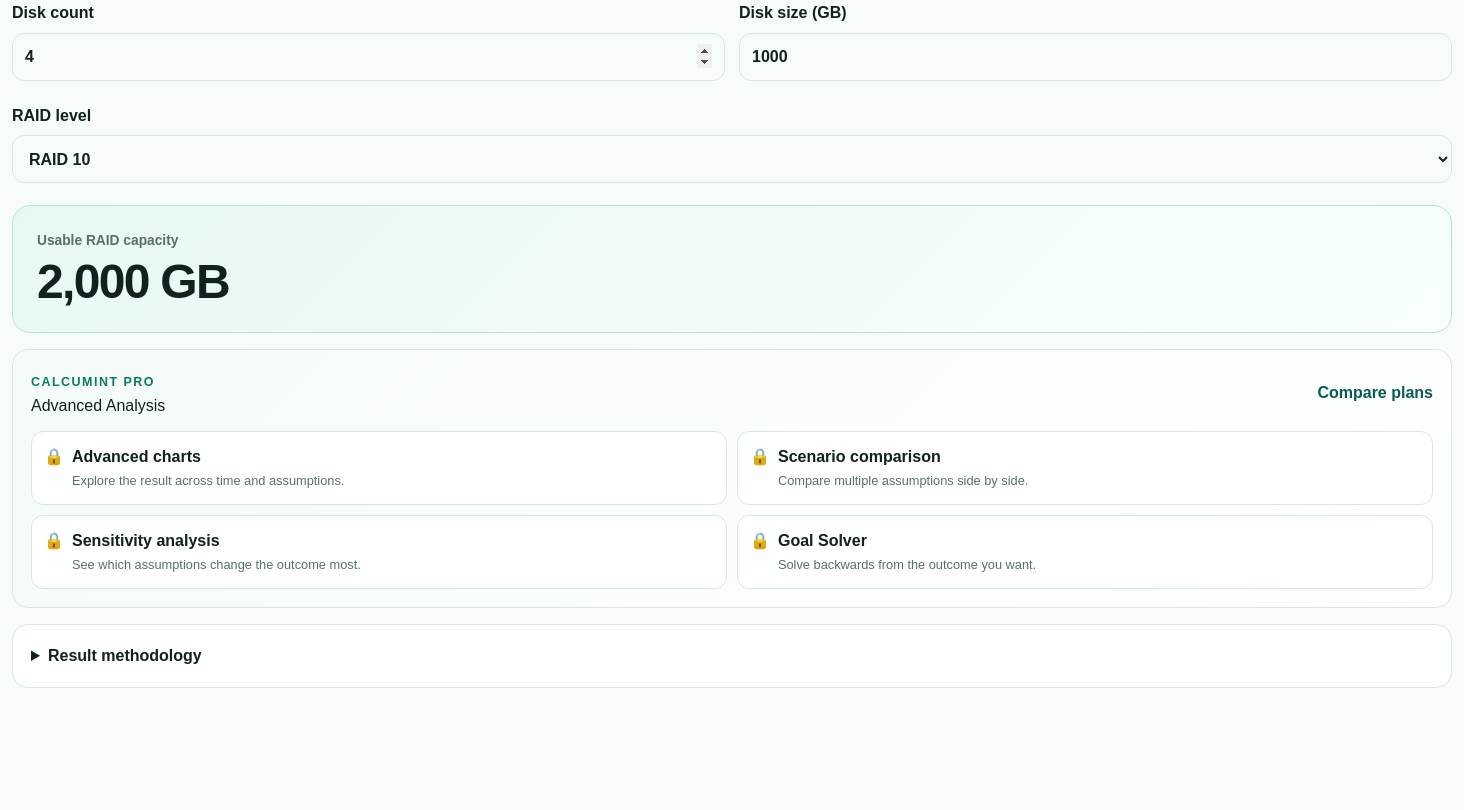
Test: Technology batch 1 UI validation › announces an invalid RAID topology
The image size is (1464, 810).
Select "RAID 6" in the dropdown labelled "RAID level" at (732, 159), box [12,135,1452,183]
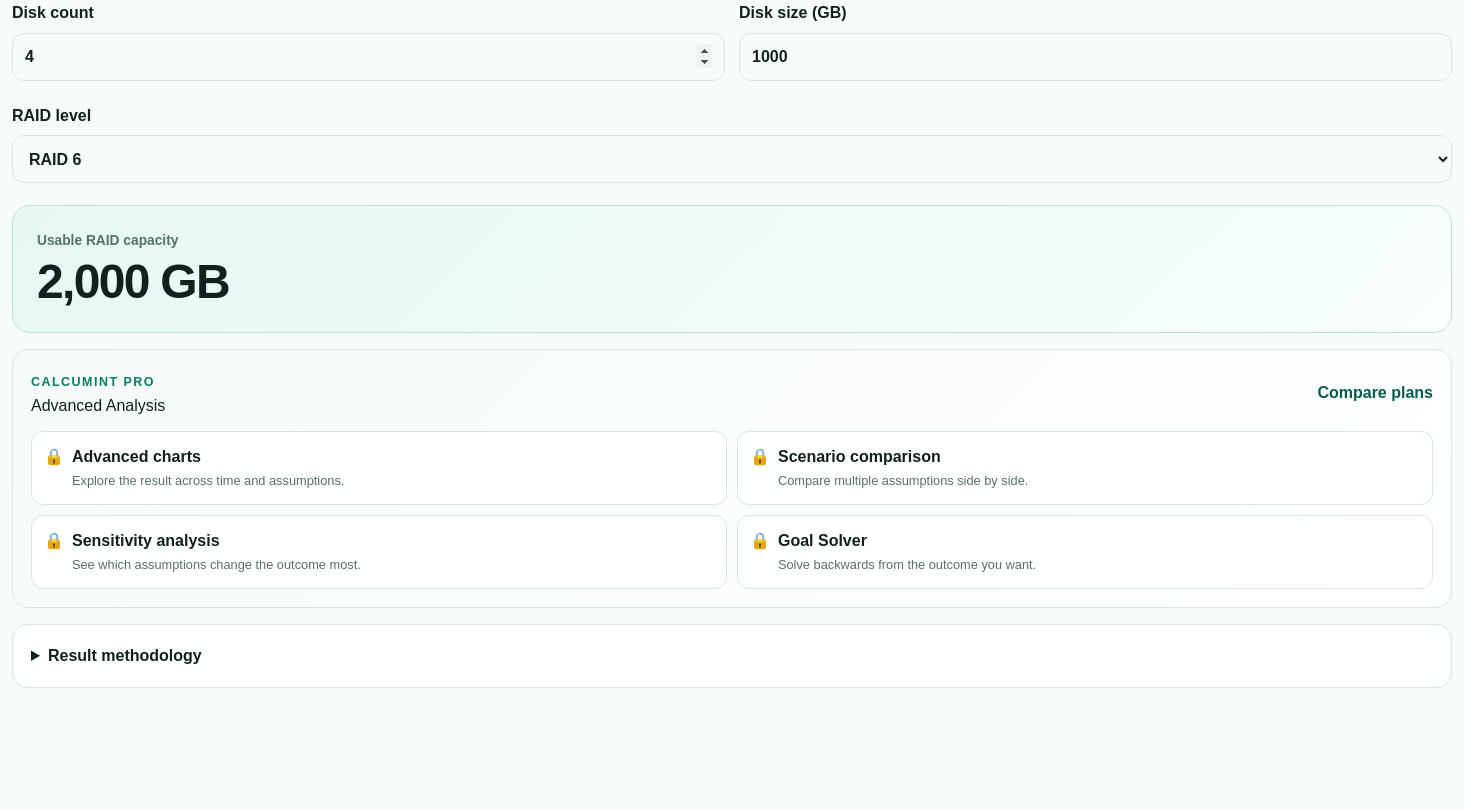
Replace the text in the number field labelled "Disk count" with "3" at (368, 57), box [12,33,725,81]
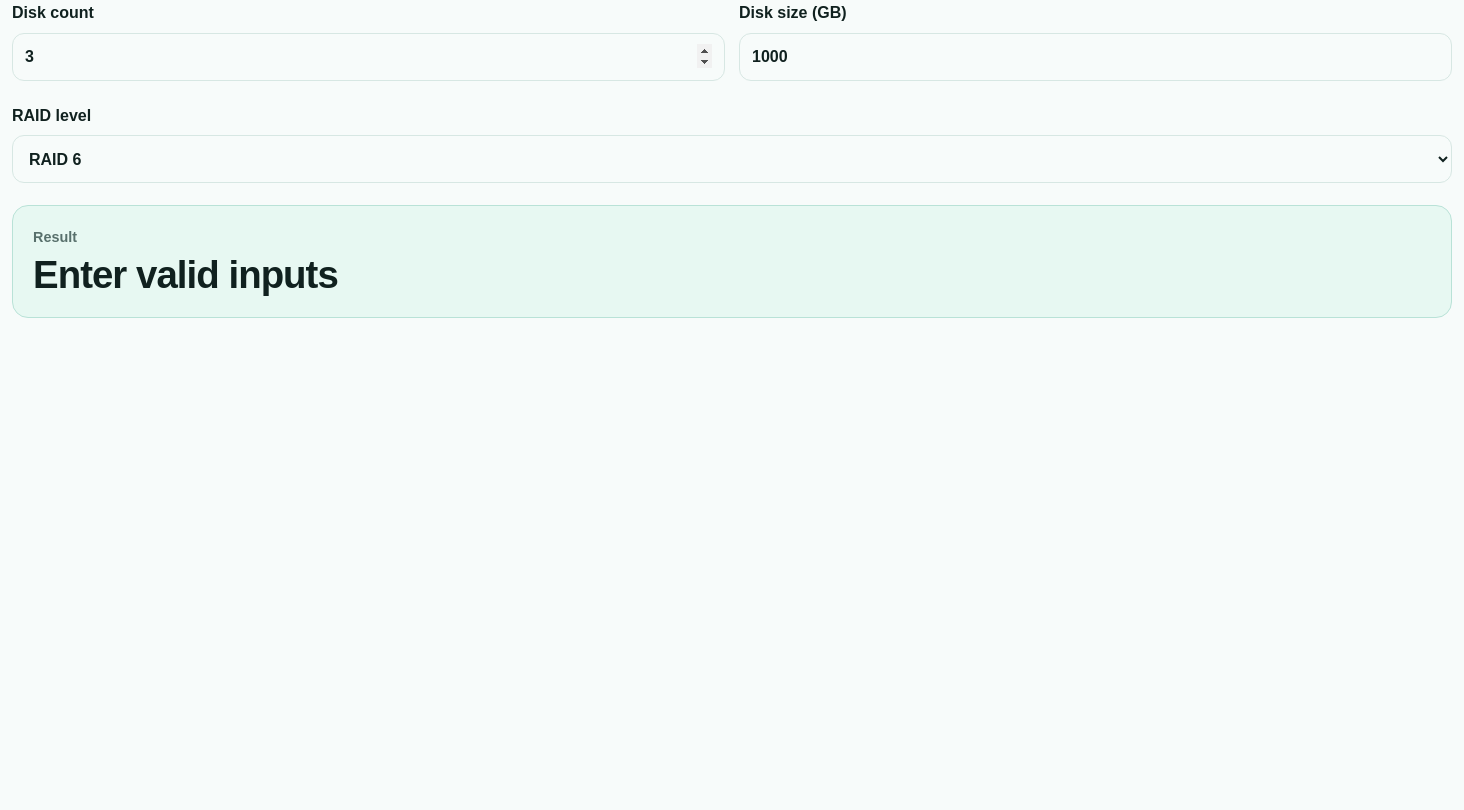
Expected: the message shows "Enter valid inputs", [33,253,338,296]
